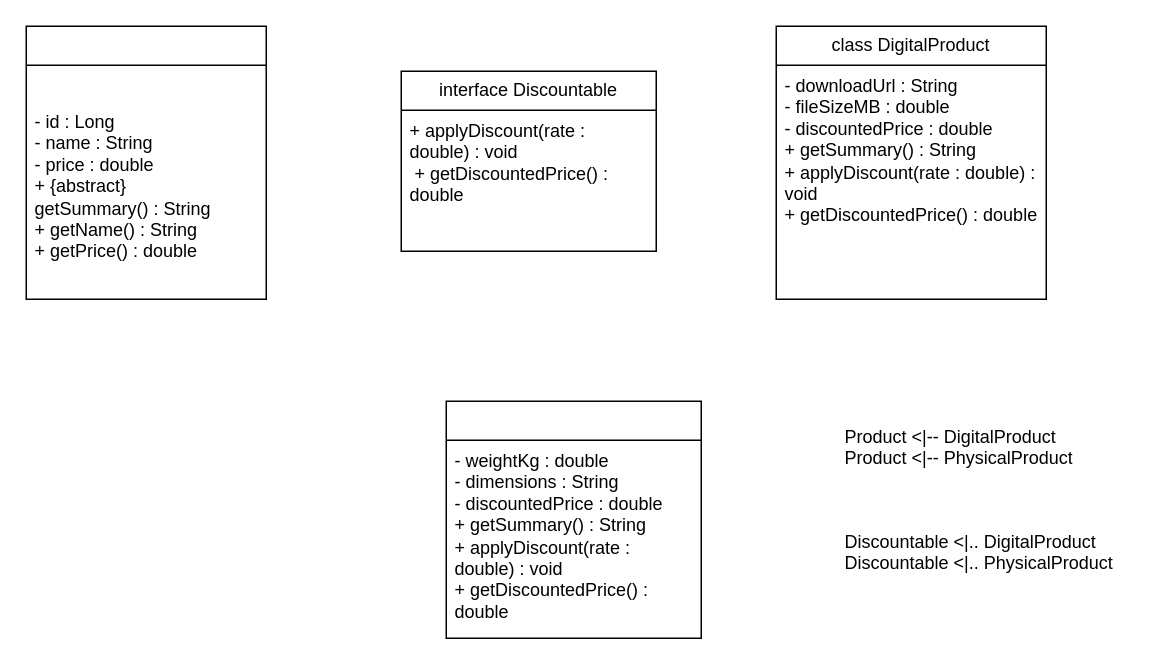
Some shapes in this 1163 by 669 pixel diagram are drawn without their labels. The shapes that lost their labels are listed below. From the top down, each one's box as (x1, y1, x2, y2) in pixels, then its label:
(25, 25, 266, 299): abstract class Product
(445, 400, 701, 638): class PhysicalProduct
